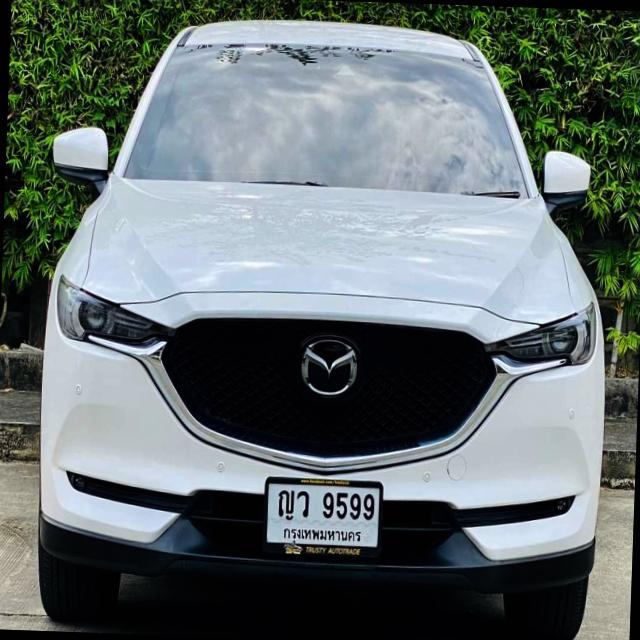license_plate: (262, 474, 384, 558)
